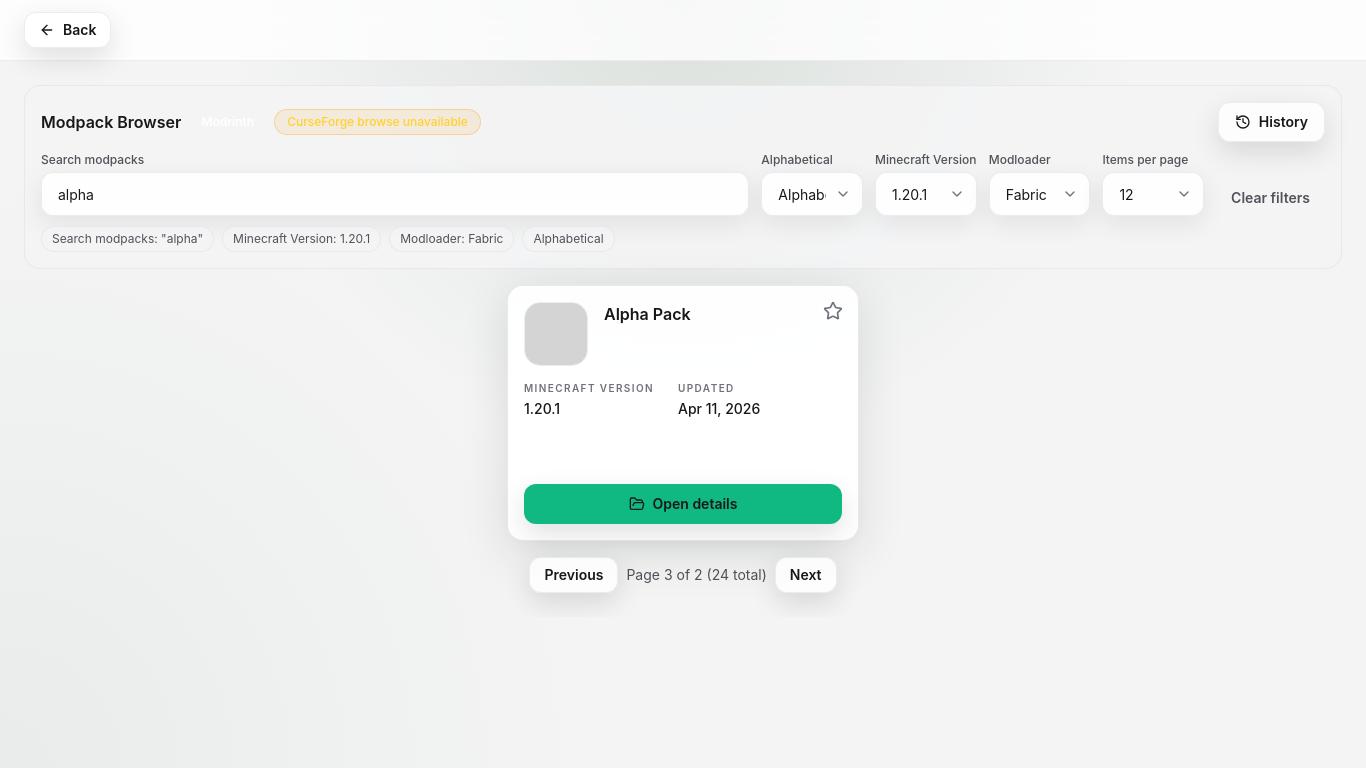
Test case: ModpackBrowser ergonomics › summarizes active filters and lets users clear them back to the default browser state
Expected: the heading "Alpha Pack" is shown, x1=604 y1=304 x2=691 y2=324
Expected: the element with test id "remote-modpack-catalog-header" is shown, x1=41 y1=102 x2=1325 y2=142
Click the button "Clear filters": (1271, 198) x1=1216 y1=180 x2=1325 y2=216
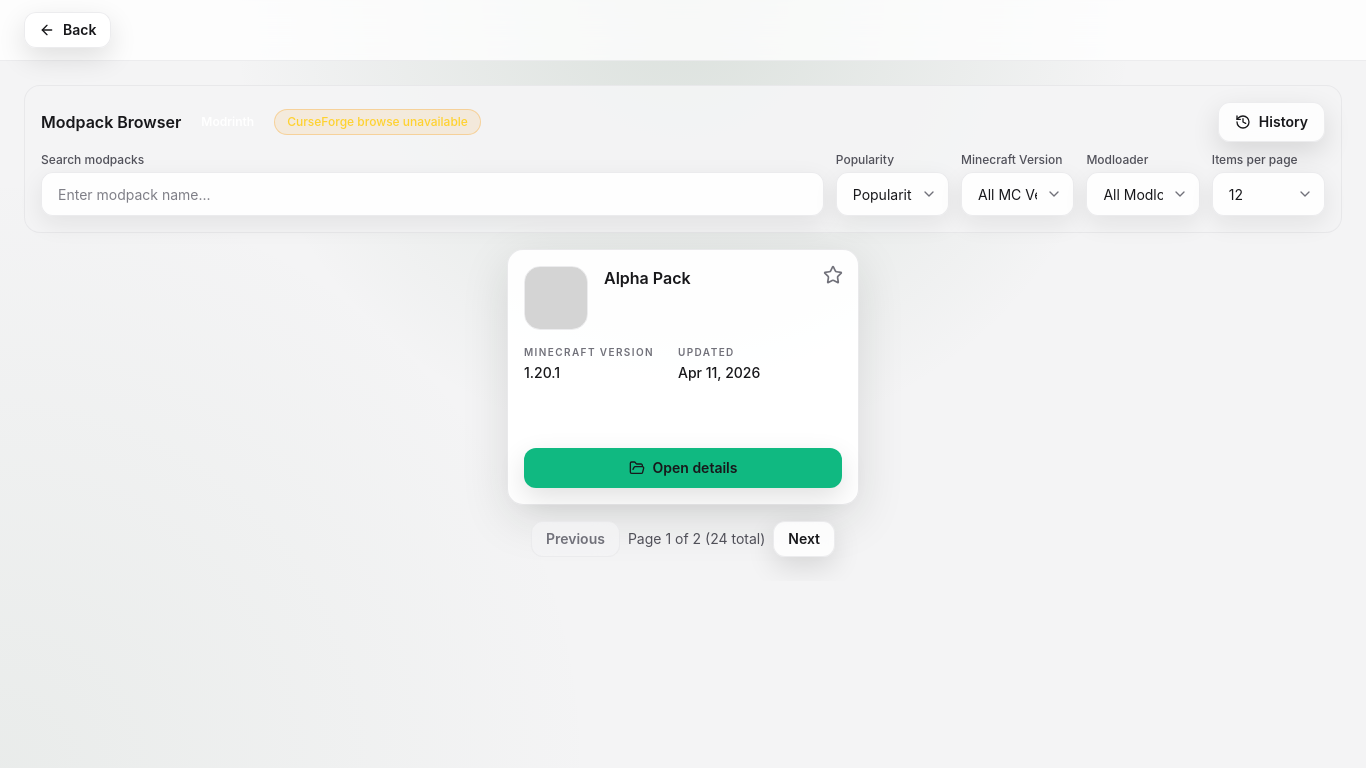
Now the field labelled "Enter modpack name..." is empty, box x1=41 y1=172 x2=824 y2=216
